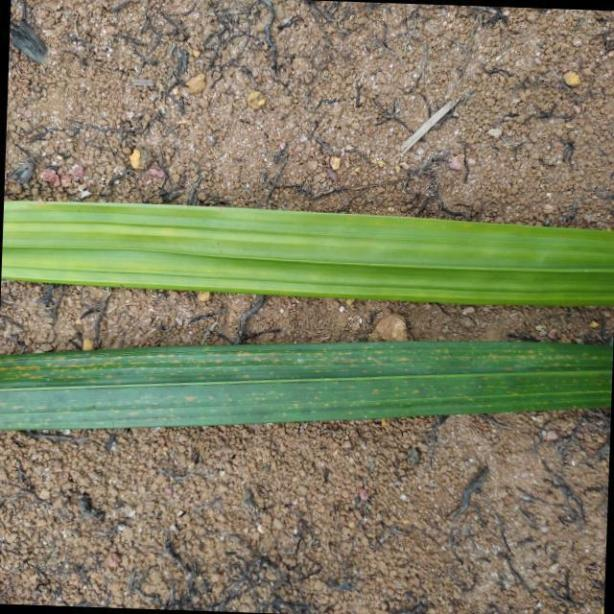nitrogen: (6, 189, 614, 304), (0, 339, 614, 435)
